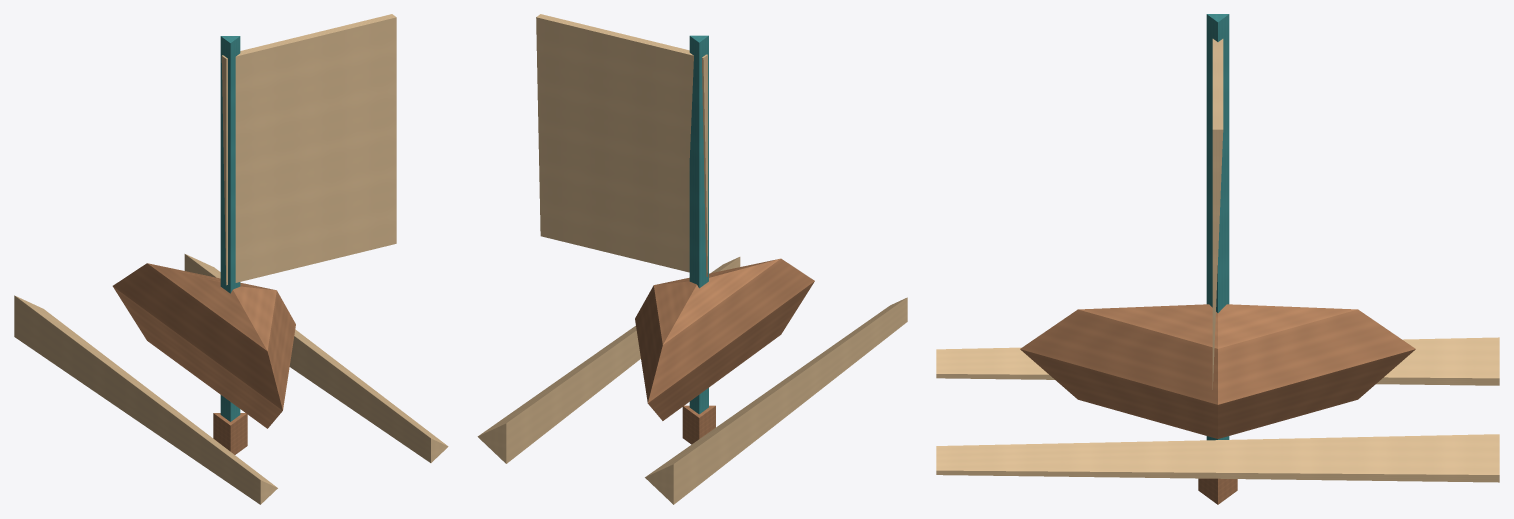
Rendered from atlas100-s096-a01.lod2.glb.
3 views of the same model, side by side, from view 1: azimuth 30°, elevation 25°; view 2: azimuth 150°, elevation 25°; view 3: azimuth 270°, elevation 25° (orthographic). The views are drawn at different scales.
Visible parts, largest first — view 1: atlas100-s096-a01:part-007, atlas100-s096-a01:part-000, atlas100-s096-a01:part-003, atlas100-s096-a01:part-004, atlas100-s096-a01:part-005, atlas100-s096-a01:part-006; view 2: atlas100-s096-a01:part-007, atlas100-s096-a01:part-000, atlas100-s096-a01:part-003, atlas100-s096-a01:part-004, atlas100-s096-a01:part-005, atlas100-s096-a01:part-006; view 3: atlas100-s096-a01:part-000, atlas100-s096-a01:part-004, atlas100-s096-a01:part-003, atlas100-s096-a01:part-005, atlas100-s096-a01:part-007, atlas100-s096-a01:part-006.
Part boxes in pixels (x1=…): atlas100-s096-a01:part-007: x1=221, y1=14, x2=396, y2=285; atlas100-s096-a01:part-000: x1=112, y1=263, x2=295, y2=428; atlas100-s096-a01:part-003: x1=14, y1=295, x2=277, y2=504; atlas100-s096-a01:part-004: x1=184, y1=254, x2=448, y2=462; atlas100-s096-a01:part-005: x1=220, y1=36, x2=240, y2=421; atlas100-s096-a01:part-006: x1=213, y1=413, x2=247, y2=454; atlas100-s096-a01:part-007: x1=536, y1=14, x2=707, y2=276; atlas100-s096-a01:part-000: x1=635, y1=258, x2=814, y2=420; atlas100-s096-a01:part-003: x1=645, y1=297, x2=907, y2=504; atlas100-s096-a01:part-004: x1=477, y1=257, x2=740, y2=463; atlas100-s096-a01:part-005: x1=689, y1=35, x2=708, y2=414; atlas100-s096-a01:part-006: x1=682, y1=405, x2=715, y2=444; atlas100-s096-a01:part-000: x1=1020, y1=304, x2=1415, y2=438; atlas100-s096-a01:part-004: x1=936, y1=434, x2=1499, y2=482; atlas100-s096-a01:part-003: x1=936, y1=337, x2=1499, y2=385; atlas100-s096-a01:part-005: x1=1206, y1=14, x2=1229, y2=440; atlas100-s096-a01:part-007: x1=1212, y1=39, x2=1223, y2=389; atlas100-s096-a01:part-006: x1=1198, y1=478, x2=1237, y2=504.
Size of the model in its own units: 1.98 by 3 by 3.2.
Materials: 3 (3 with a texture image).
